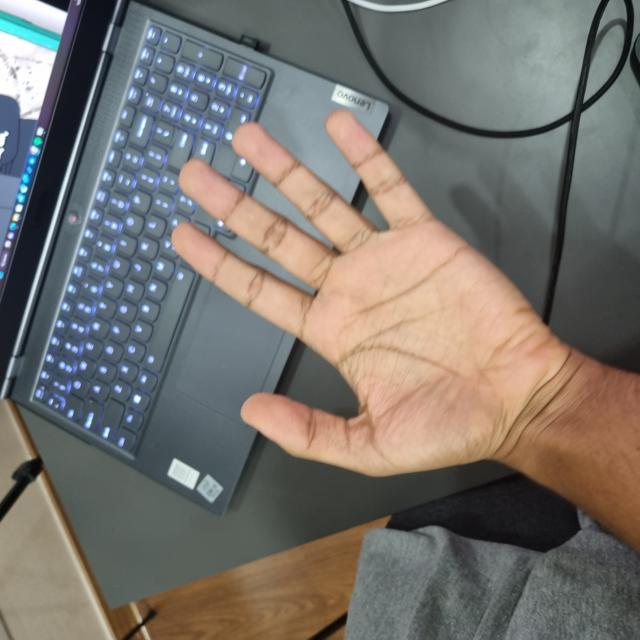Paper: (166, 176, 525, 557)
